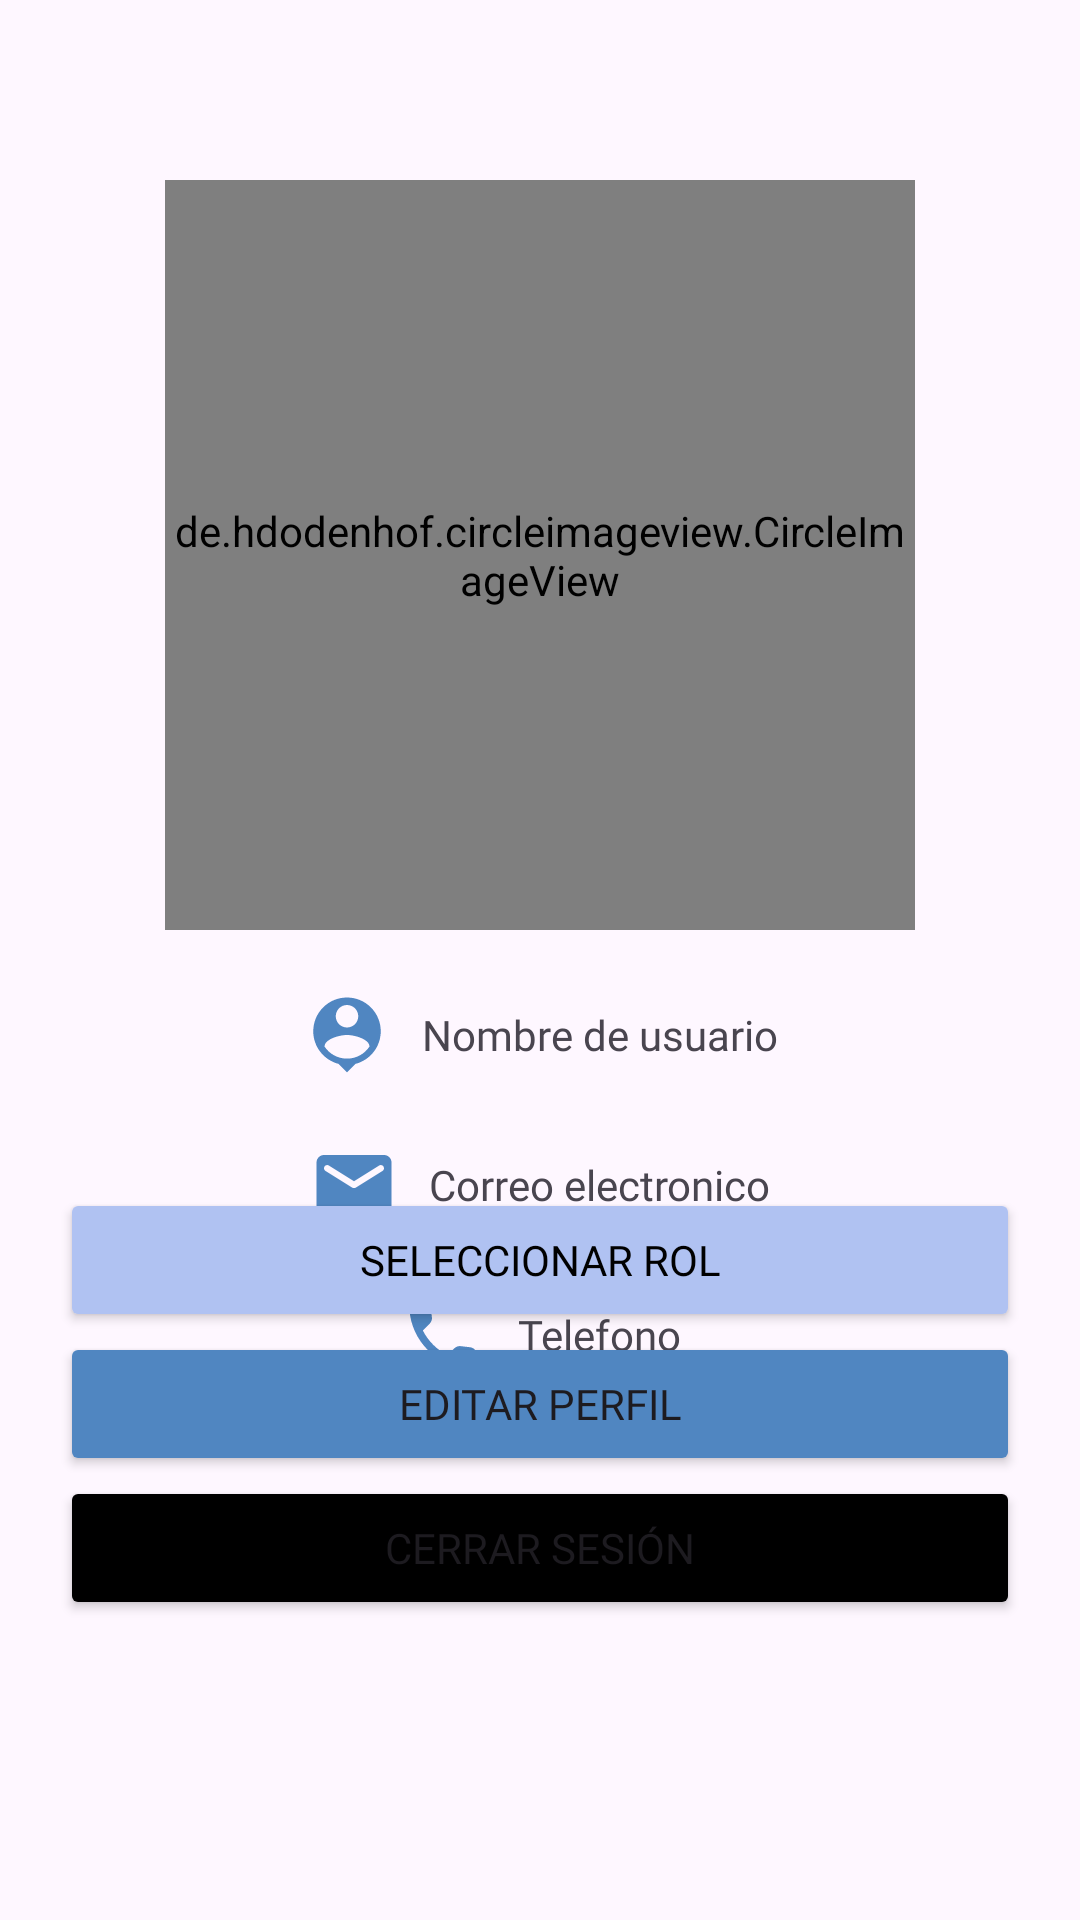

Point at icon controls on the screen. Image size 1080×1920, points as point (x, y).
person pin: point (347, 1034)
